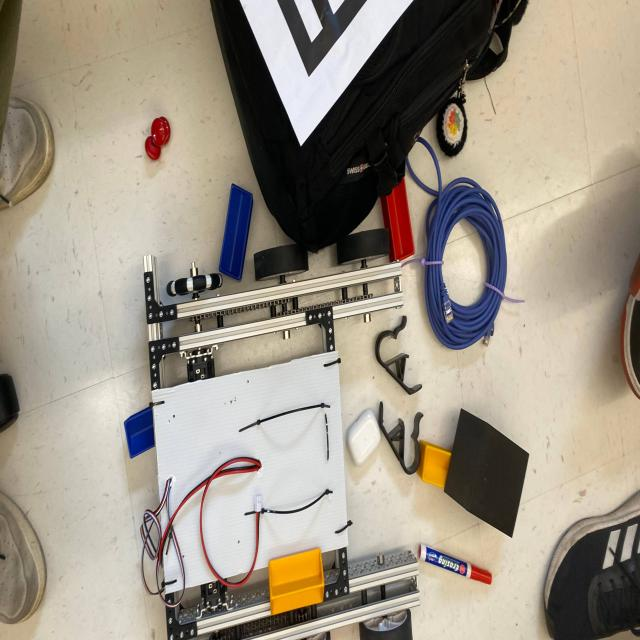blue-specimen: (219, 184, 253, 280), (124, 407, 155, 458)
red-specimen: (380, 177, 415, 262)
yellow-specimen: (269, 548, 324, 615), (417, 440, 451, 488)
